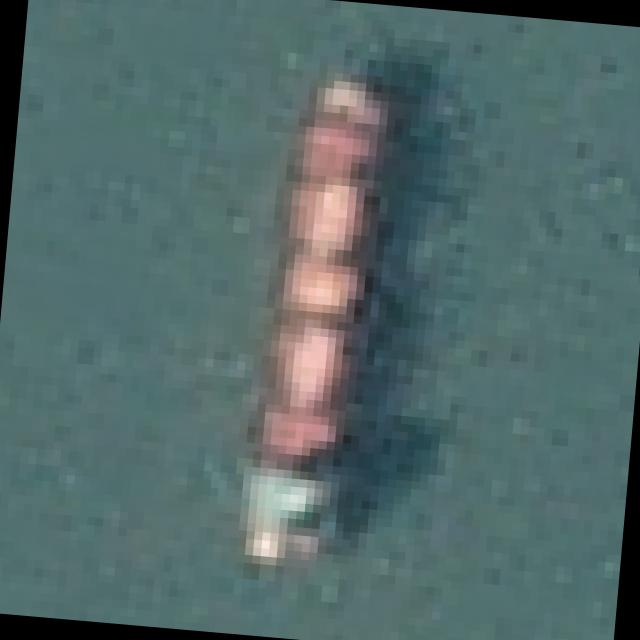ship: (166, 26, 466, 614)
